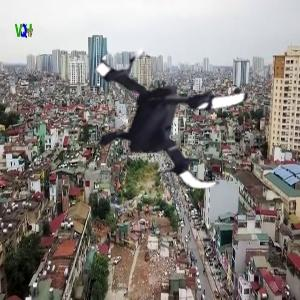drone: (64, 22, 253, 211)
